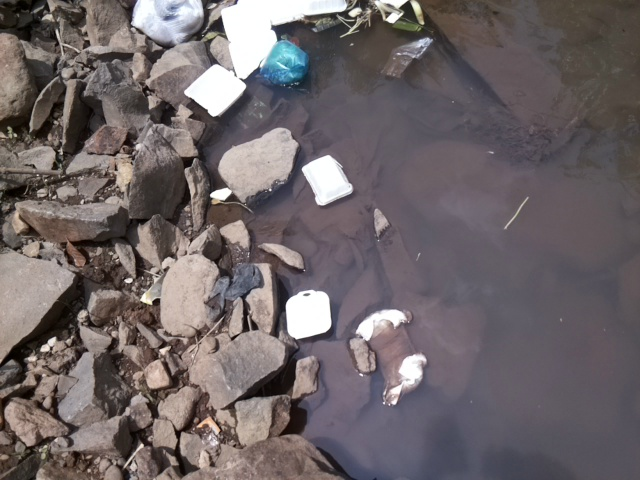Sampah_Plastik: (132, 1, 205, 46), (208, 263, 259, 313), (381, 35, 435, 79), (260, 36, 306, 87)
Sampah_Styrofoam: (220, 1, 279, 80), (183, 60, 245, 116), (299, 153, 355, 209), (283, 288, 336, 341)
